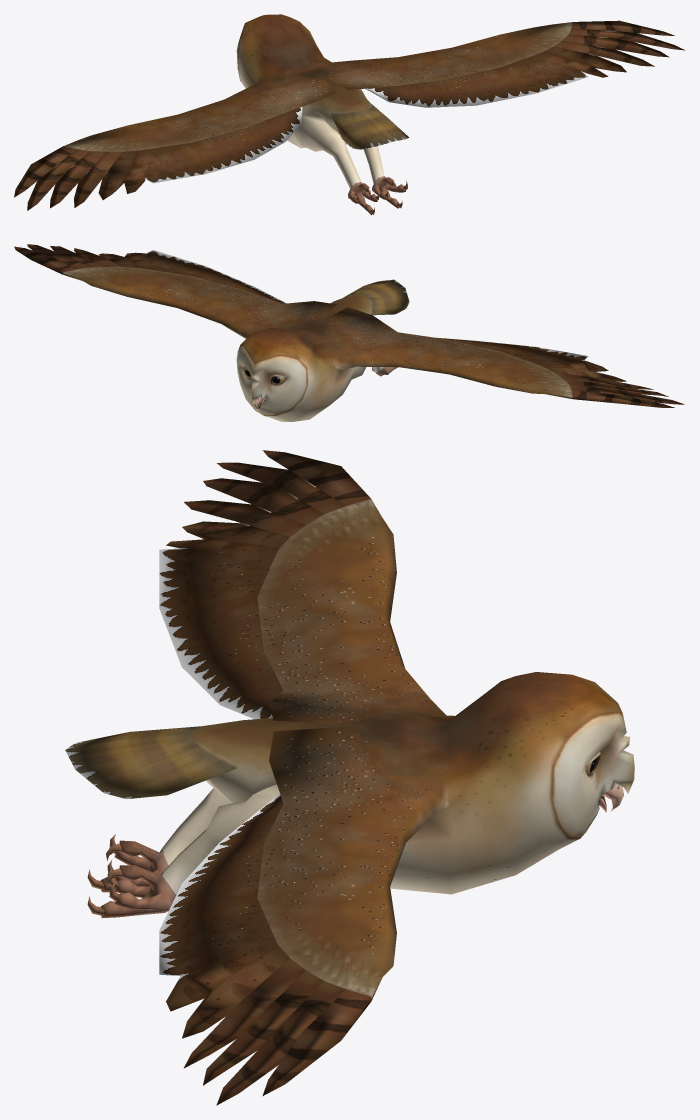
File: Etch.fbx
3 renders of one model, top to bottom at view 1: azimuth 30°, elevation 25°; view 2: azimuth 150°, elevation 25°; view 3: azimuth 270°, elevation 25°, orthographic. The views are drawn at different scales.
Parts seen in each view (by area): view 1: Cube_004; view 2: Cube_004; view 3: Cube_004.
Part boxes in pixels (x1,y1,x2,y2): Cube_004: (14,14,685,215); Cube_004: (14,244,684,421); Cube_004: (65,450,634,1105).
Size of the model in its own units: 1.05 by 0.1686 by 0.3898.
Materials: 2 (2 with a texture image).
